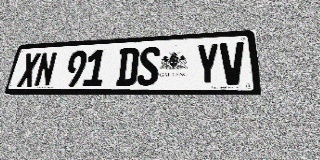1: (82, 49, 107, 87)
9: (64, 50, 88, 87)
D: (115, 47, 140, 86)
N: (33, 52, 58, 87)
S: (137, 46, 160, 86)
V: (220, 42, 246, 85)
X: (17, 52, 41, 87)
Y: (195, 43, 220, 85)
